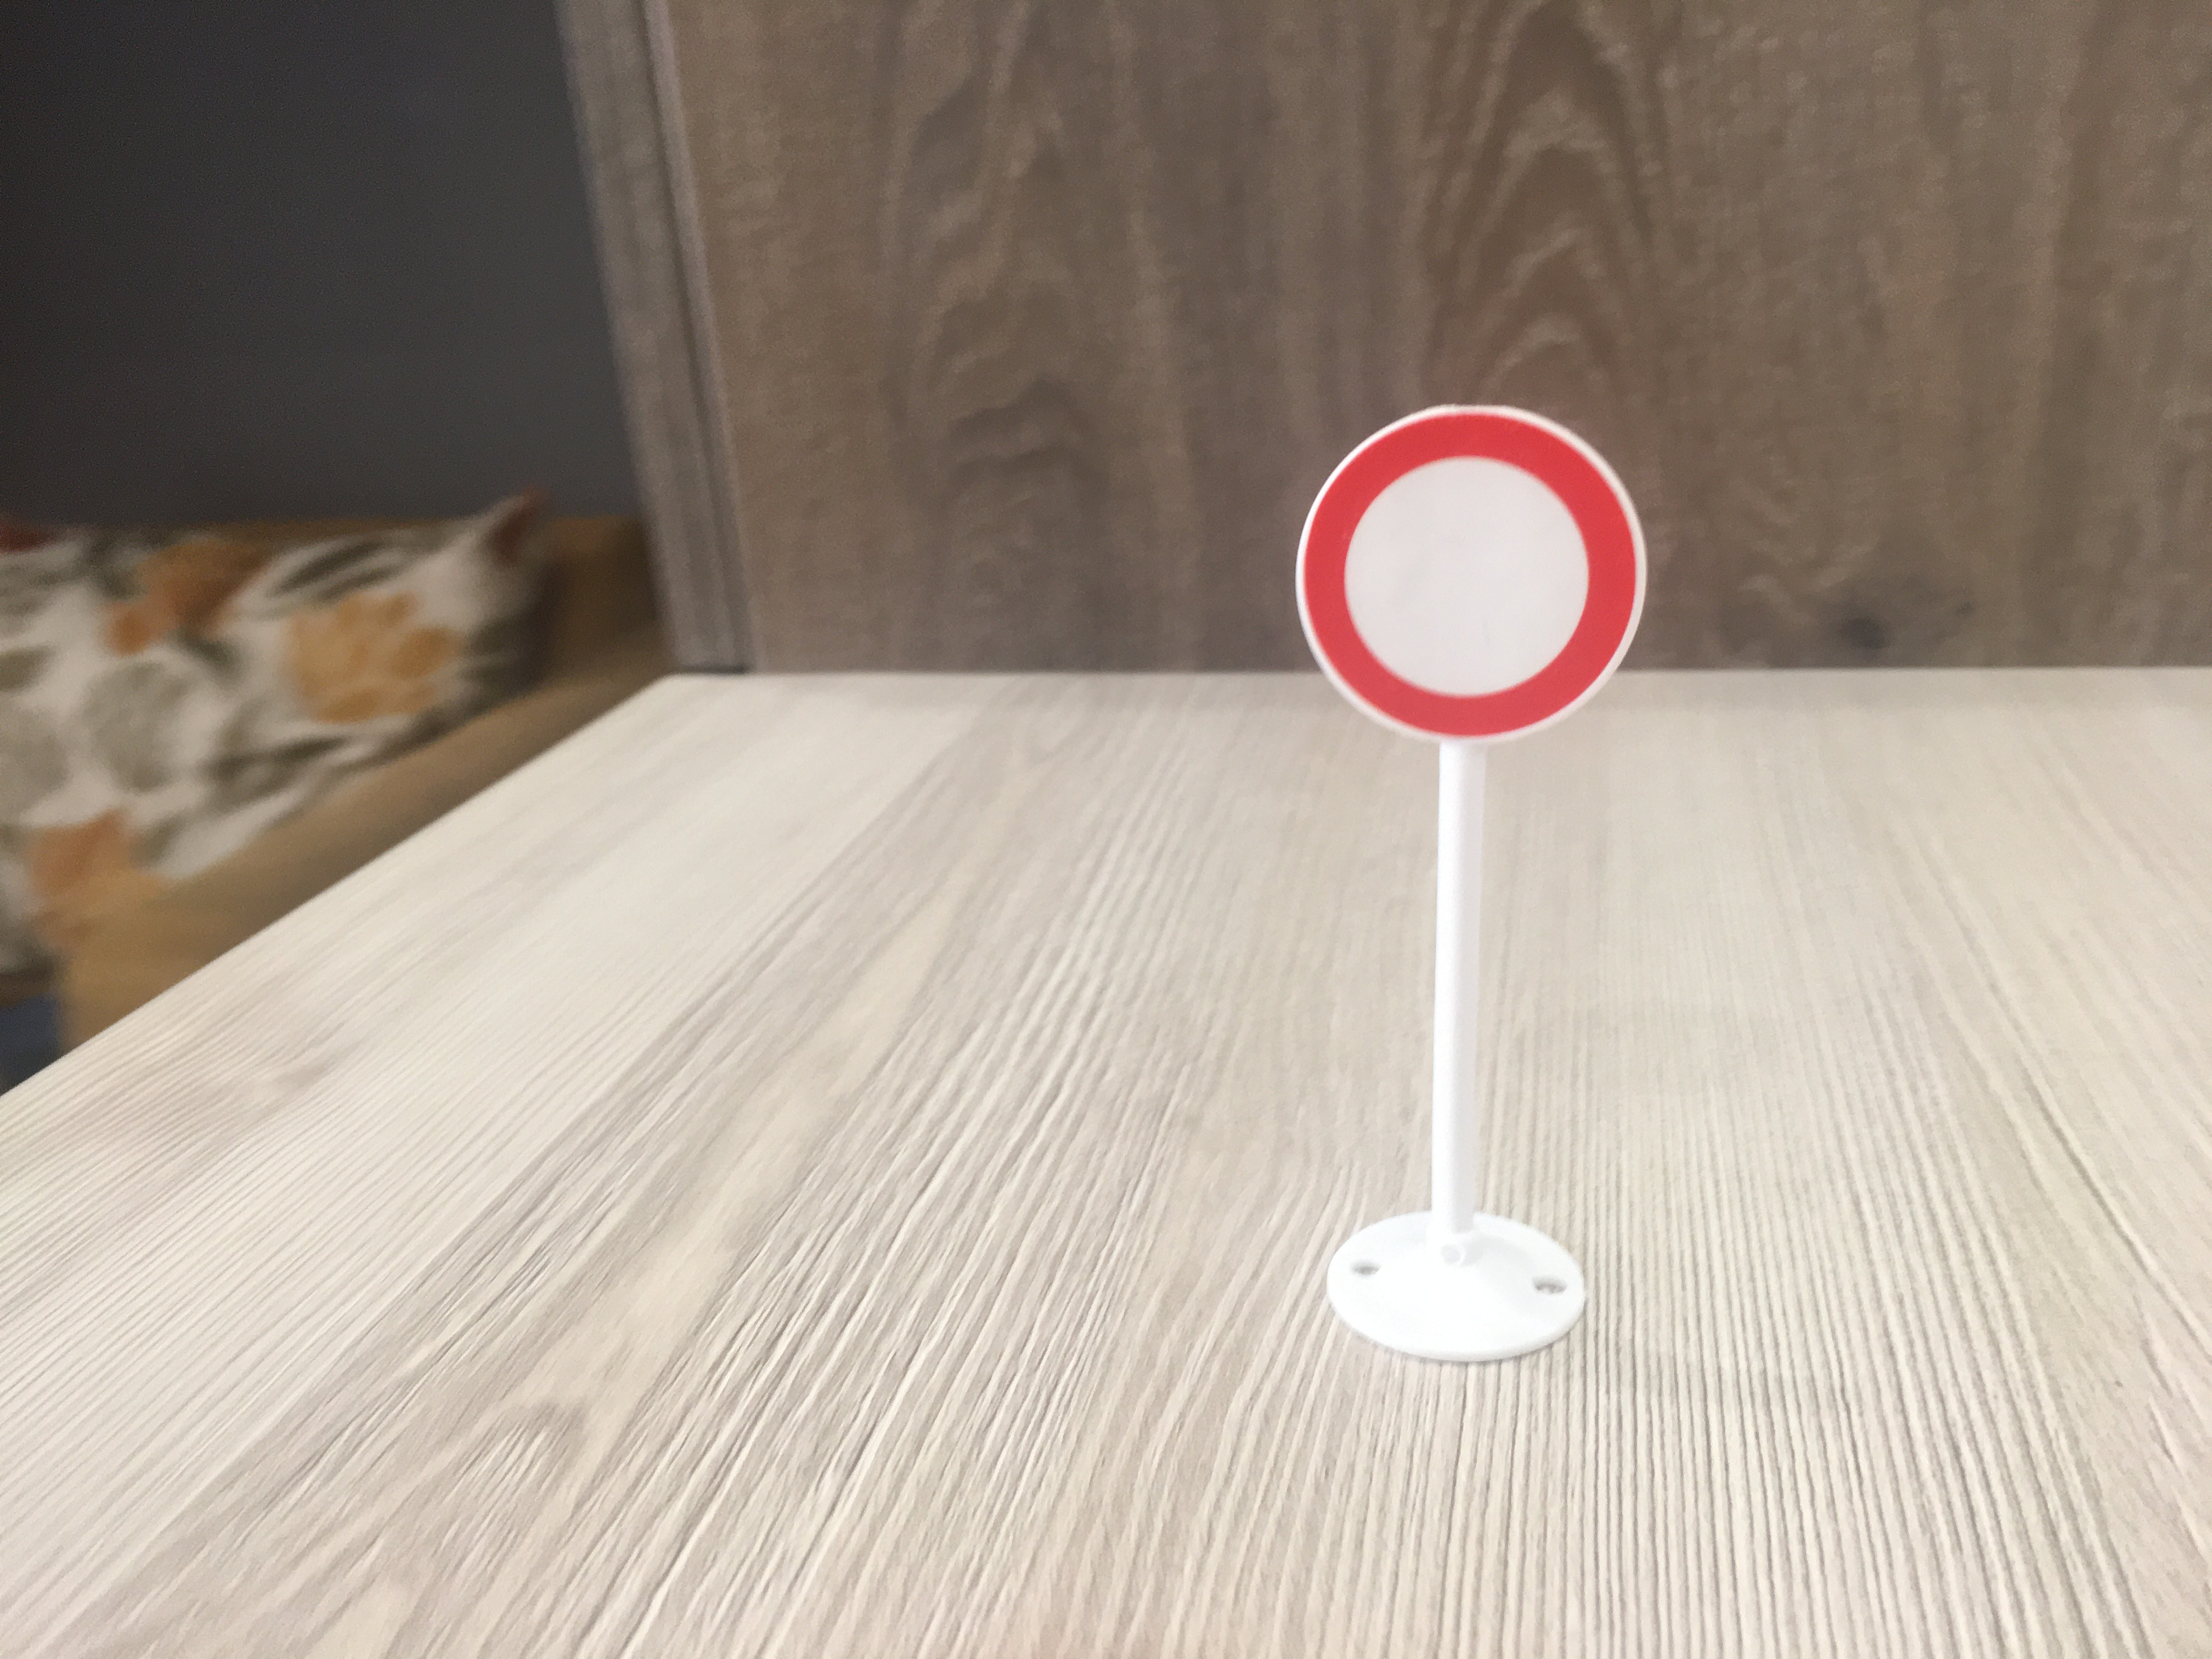noDrive: (1292, 404, 1653, 749)
